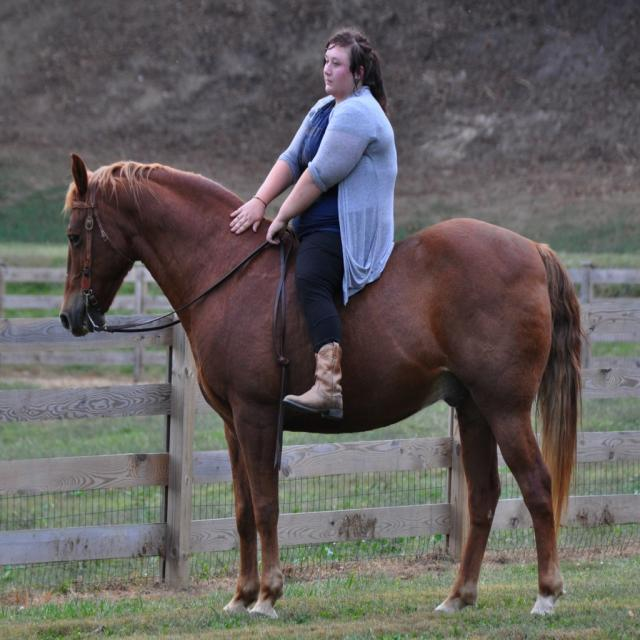Horse: (59, 154, 592, 620)
